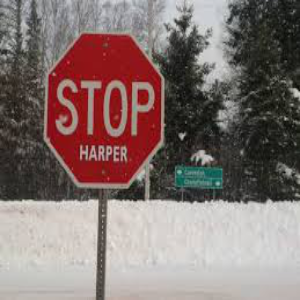STOP_SIGN: (43, 30, 164, 188)
